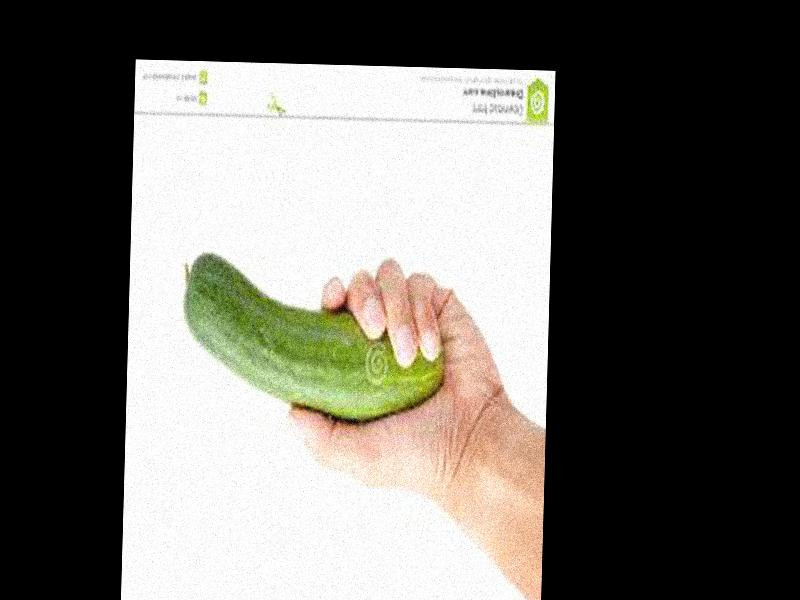Cucumber: (179, 251, 446, 418)
